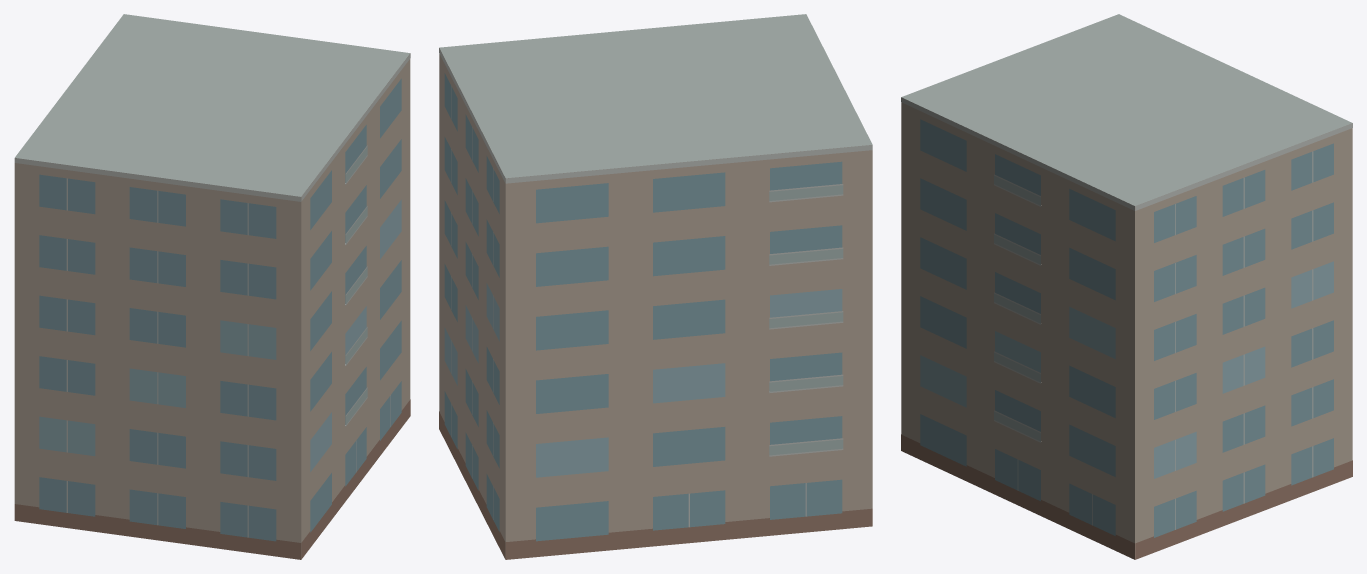
Rendered from survey-upis-32560826.glb.
3 renders of one model, left to right at view 1: azimuth 30°, elevation 25°; view 2: azimuth 150°, elevation 25°; view 3: azimuth 270°, elevation 25°, orthographic. The views are drawn at different scales.
Visible parts, largest first — view 1: survey-upis-32560826.tmp; view 2: survey-upis-32560826.tmp; view 3: survey-upis-32560826.tmp.
Boxes of the visible parts, left/top/right/bottom form: survey-upis-32560826.tmp: left=14, top=14, right=410, bottom=559; survey-upis-32560826.tmp: left=439, top=14, right=872, bottom=559; survey-upis-32560826.tmp: left=901, top=14, right=1352, bottom=559.
Bounding box in the file's own units: 20.4 × 17.5 × 20.26.
